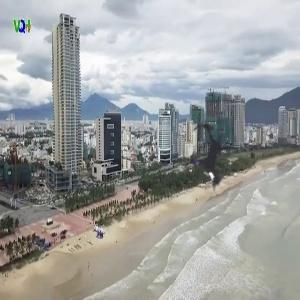drone: (152, 102, 263, 213)
